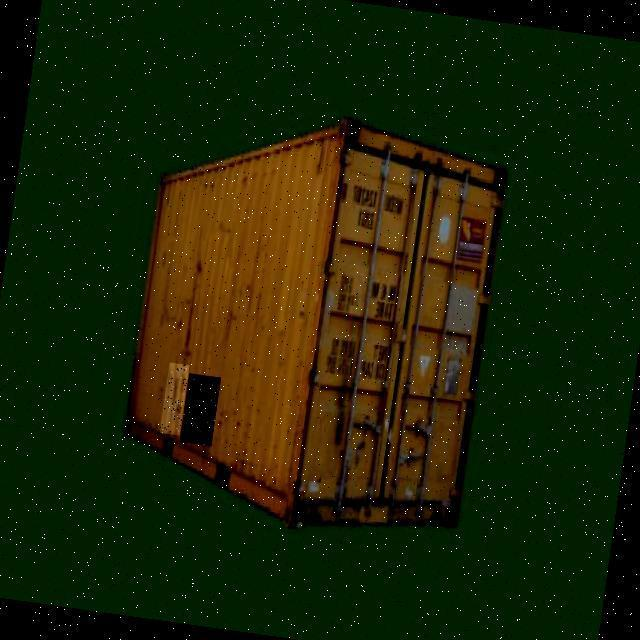rust: (181, 374, 222, 447), (161, 364, 191, 437)
